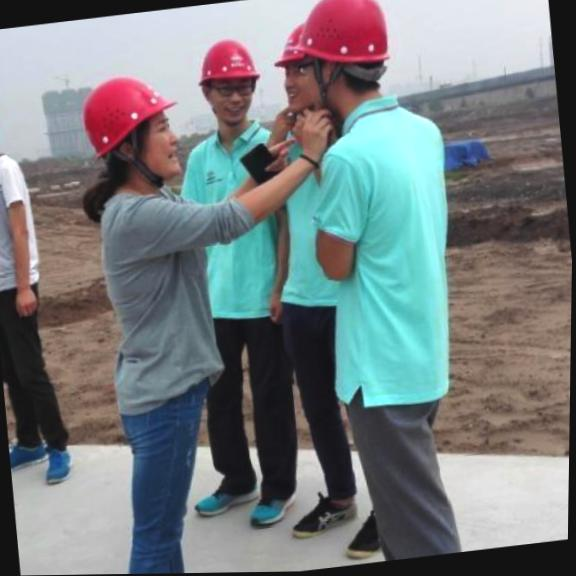no_safety_vest: (294, 87, 474, 424), (88, 182, 203, 428), (172, 112, 290, 325), (0, 147, 57, 328)
